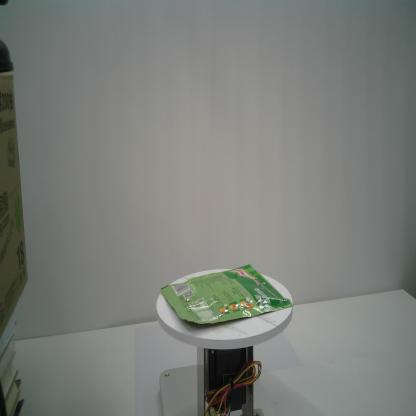Seasoner: (161, 263, 293, 324)
